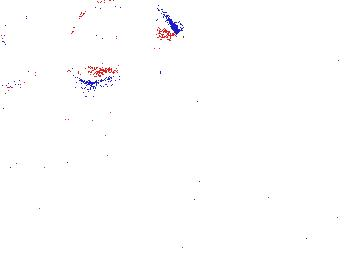moon jellyfish: (65, 74, 166, 175), (69, 1, 176, 74)
